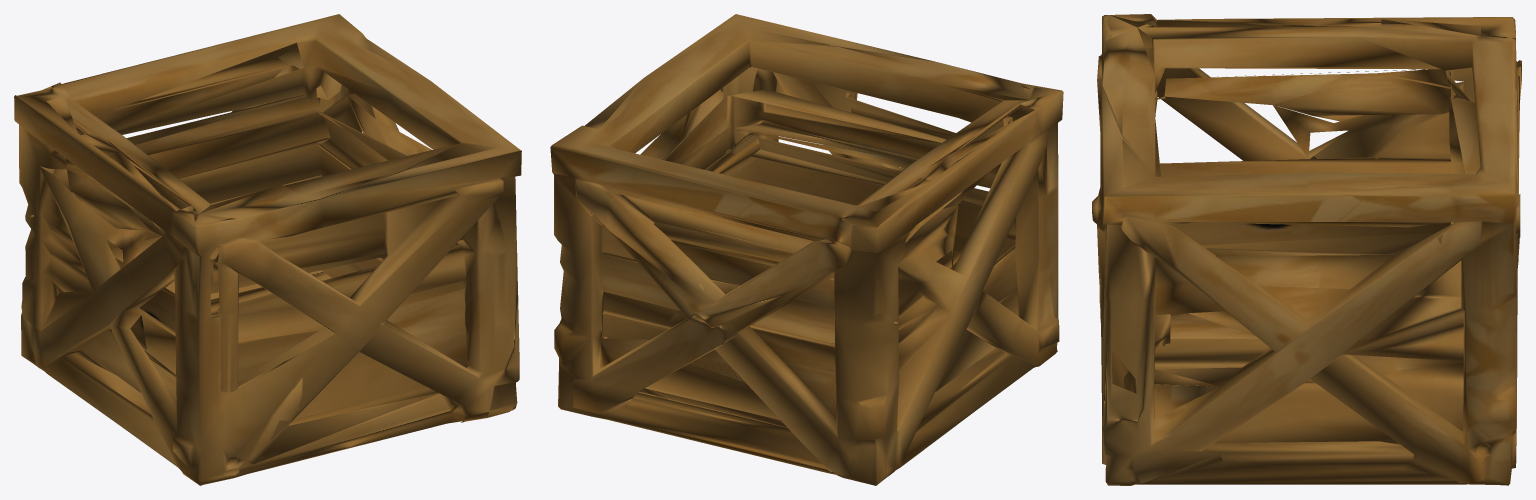
Rendered from live-crate.glb.
The picture shows the model from 3 angles, left to right: view 1: azimuth 30°, elevation 25°; view 2: azimuth 150°, elevation 25°; view 3: azimuth 270°, elevation 25°; orthographic projection. The views are drawn at different scales.
Visible parts, largest first — view 1: tripo_node_1ce663c1-18ee-4ca3-ae91-4b1ad5f50c67; view 2: tripo_node_1ce663c1-18ee-4ca3-ae91-4b1ad5f50c67; view 3: tripo_node_1ce663c1-18ee-4ca3-ae91-4b1ad5f50c67.
Part boxes in pixels (<box>): tripo_node_1ce663c1-18ee-4ca3-ae91-4b1ad5f50c67: <box>14,14,521,485</box>; tripo_node_1ce663c1-18ee-4ca3-ae91-4b1ad5f50c67: <box>550,14,1063,485</box>; tripo_node_1ce663c1-18ee-4ca3-ae91-4b1ad5f50c67: <box>1092,14,1521,485</box>.
Size of the model in its own units: 0.998 by 0.7613 by 0.998.
1 material, 1 textured.
